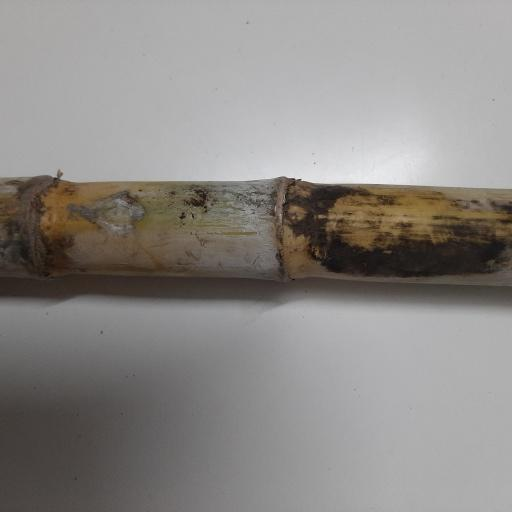Bud: (281, 201, 309, 225)
